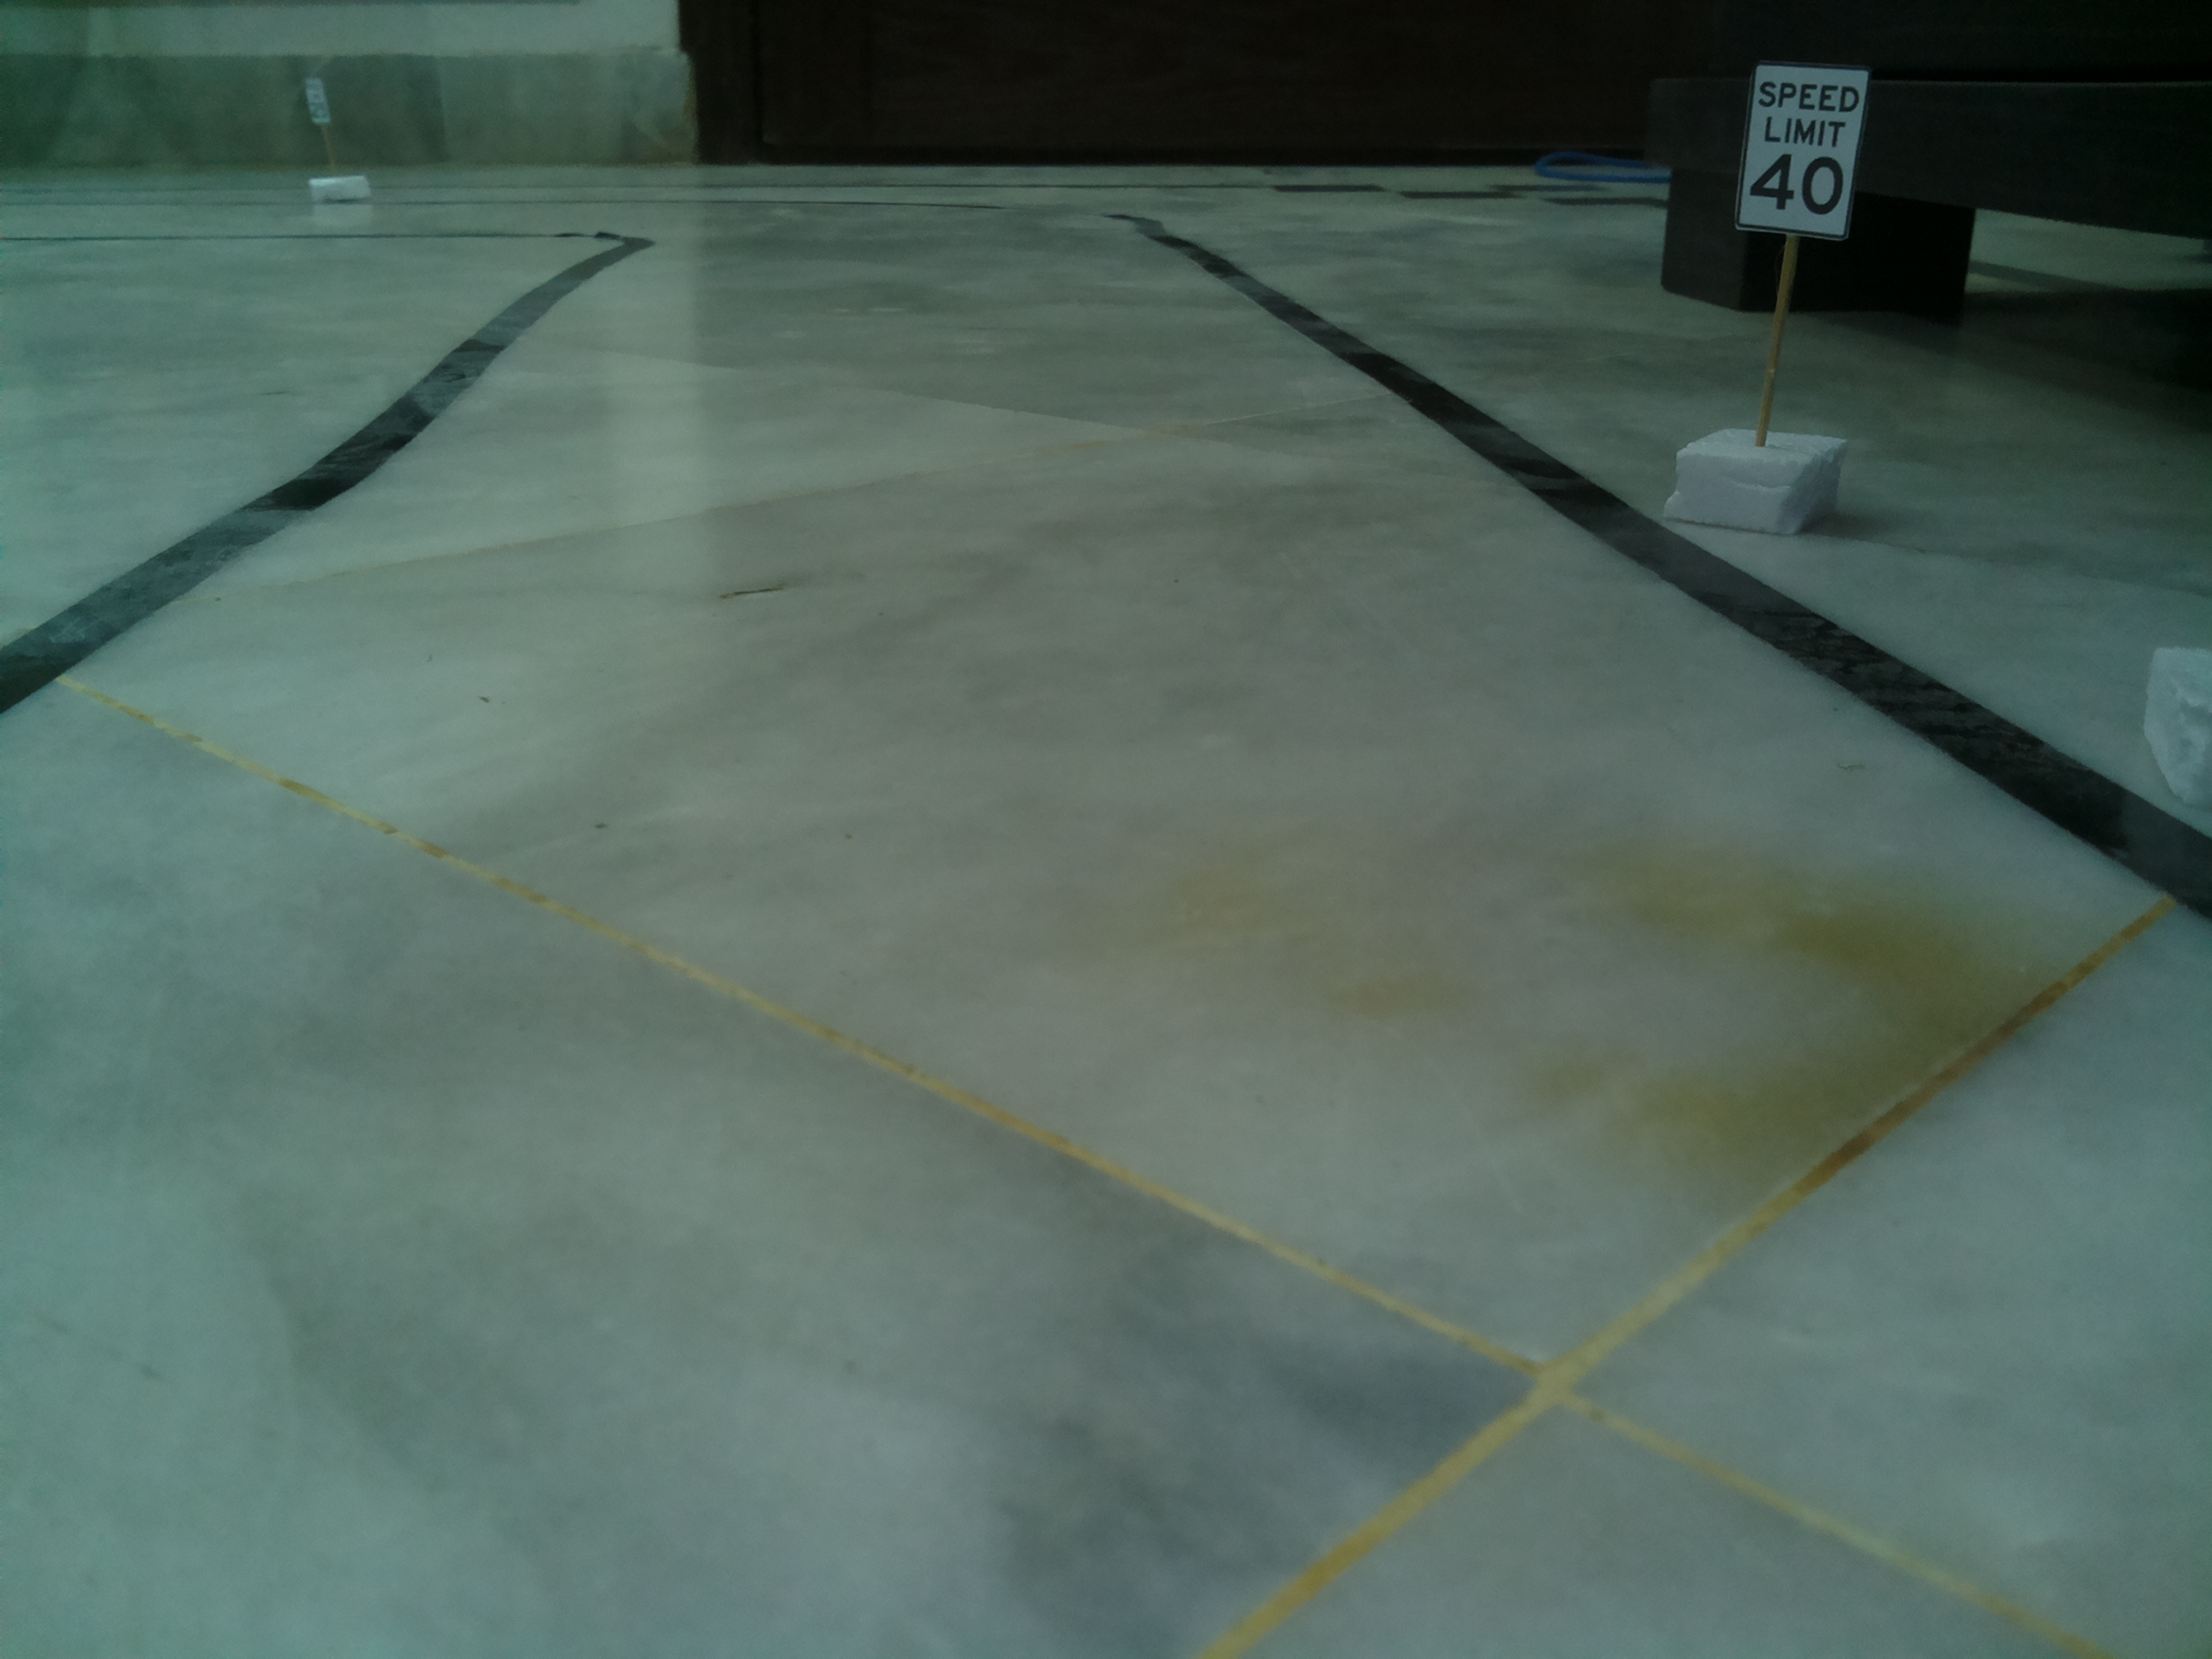Speed limit 40: (1733, 51, 1872, 244)
